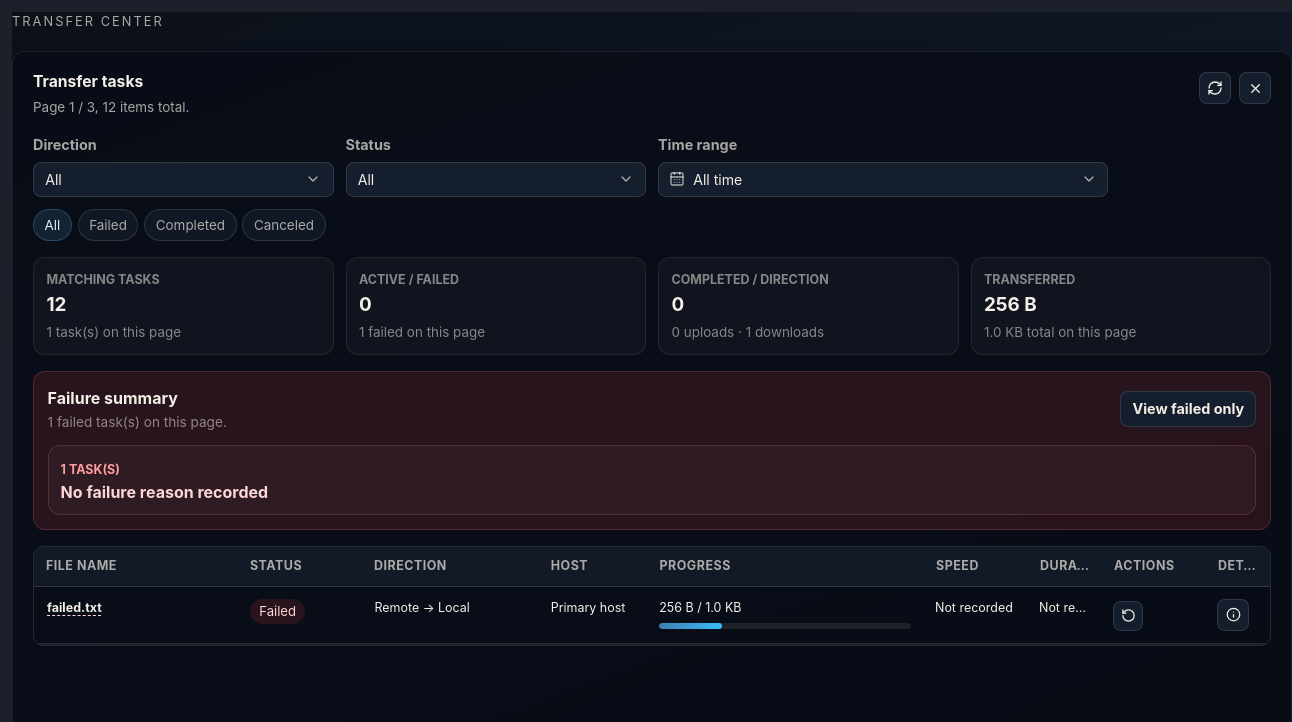
Test case: TransfersPage › shows the backend error when a transfer control action fails
Expected: the text "failed.txt" is shown, [47,599,102,617]
Click the button named "Retry transfer": click(1128, 616) [1113,601,1143,631]
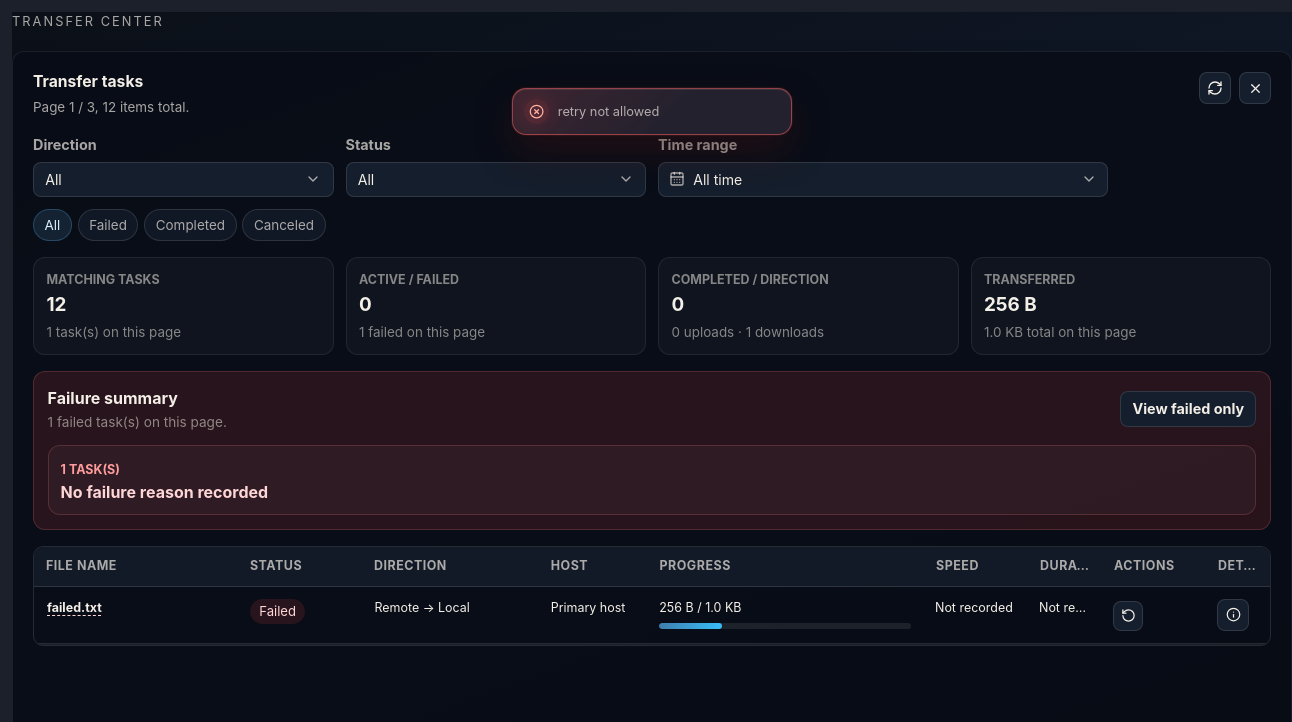
Expected: the text "retry not allowed" is shown, [558,104,659,119]
